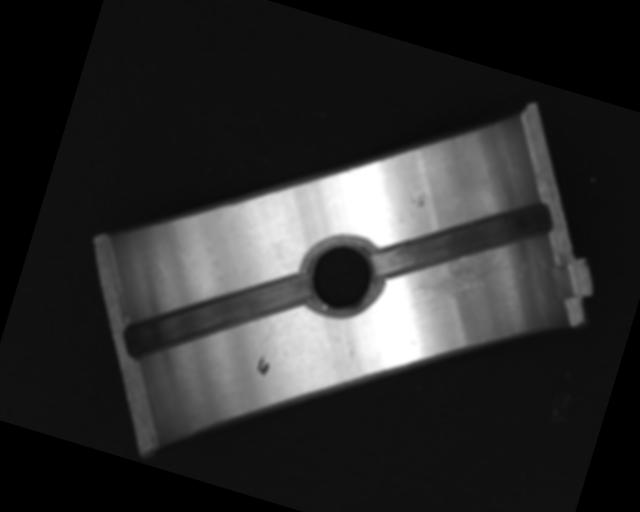blot: (254, 354, 272, 377)
bruise: (407, 186, 431, 211)
gap: (119, 231, 311, 399), (371, 160, 557, 317)
hole: (296, 226, 390, 325)
nick: (332, 331, 369, 380)
scratch: (407, 230, 513, 323)
